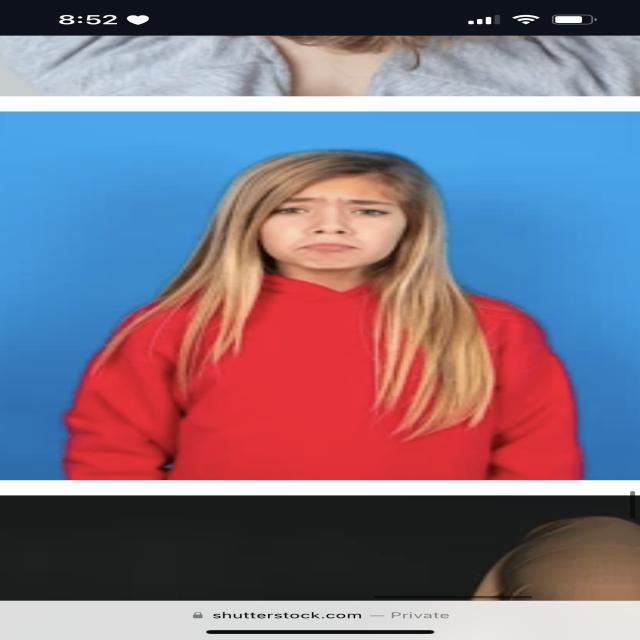sad: (264, 170, 427, 276)
